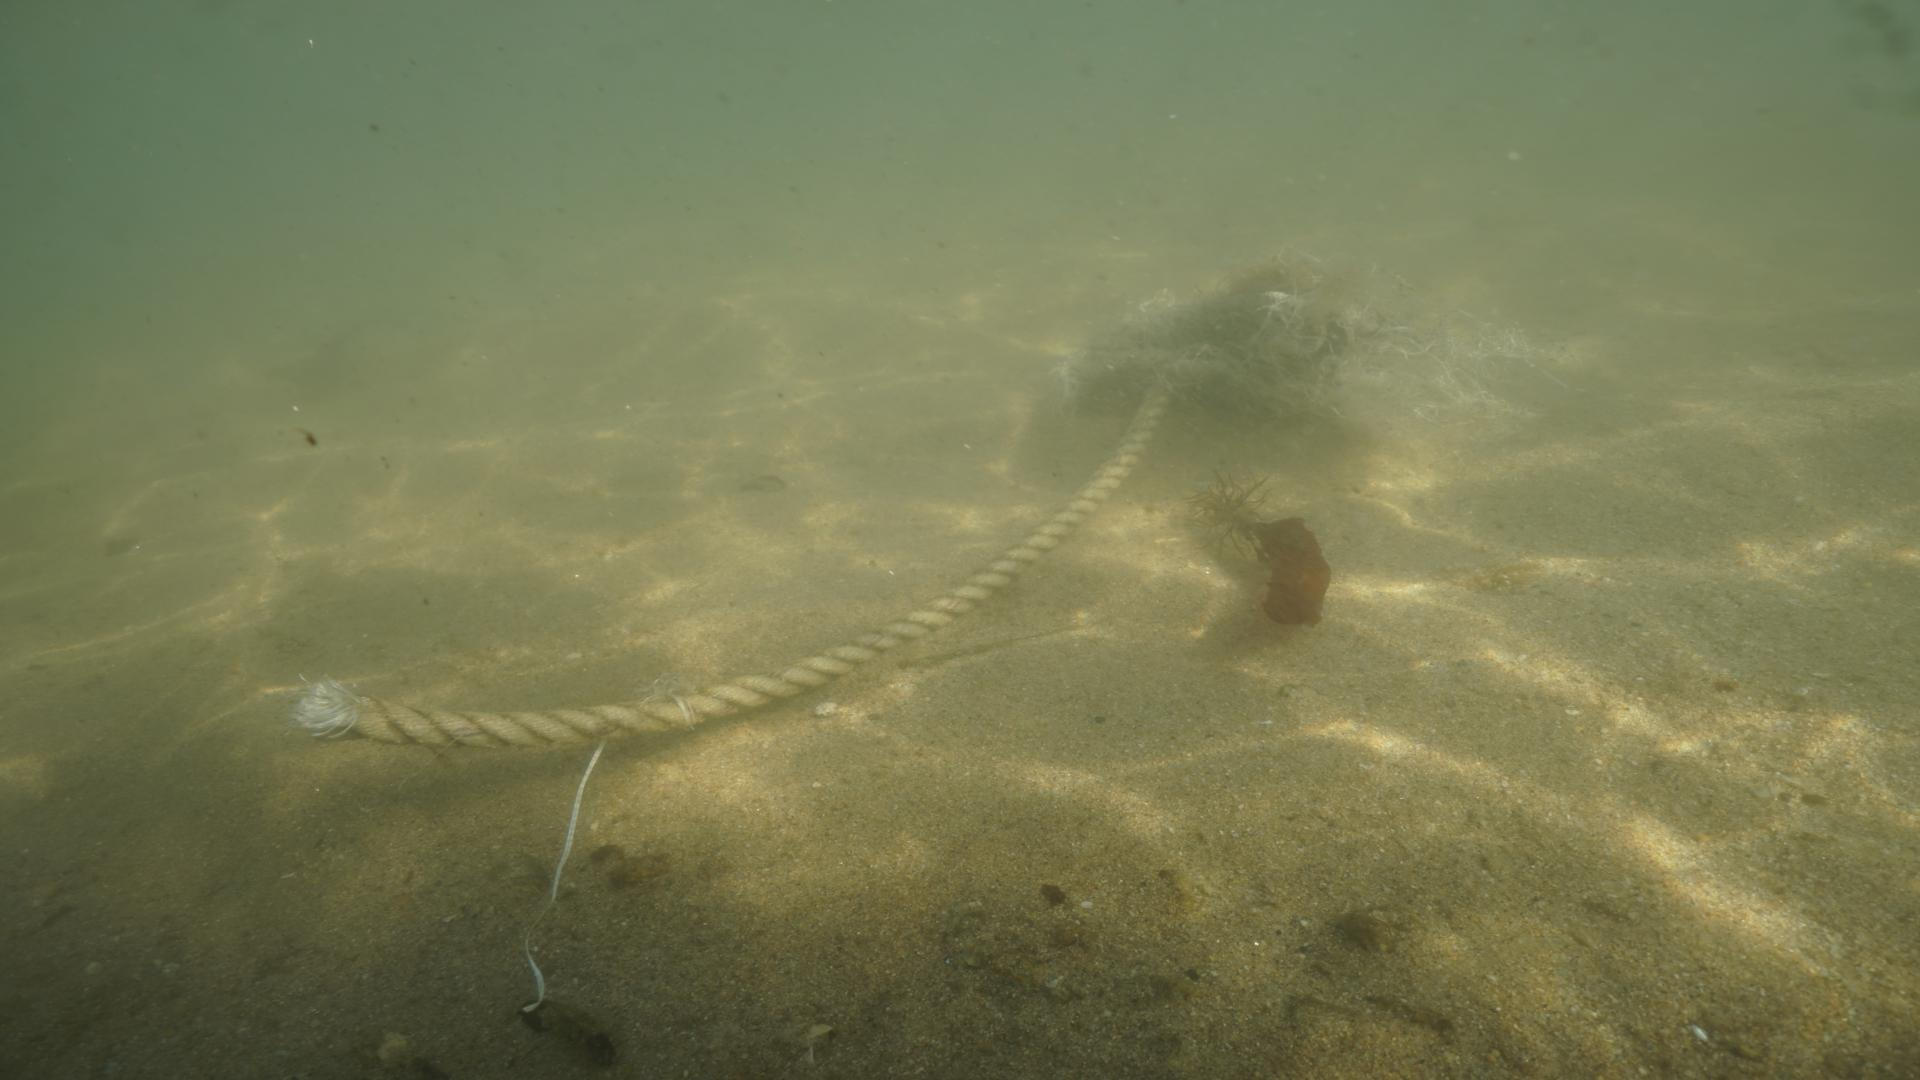rope: (334, 373, 1189, 754)
